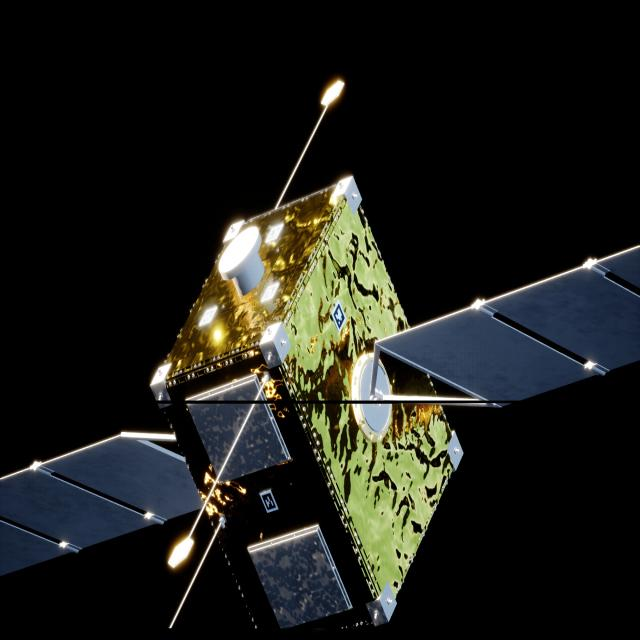medium_debris: (0, 177, 640, 633)
